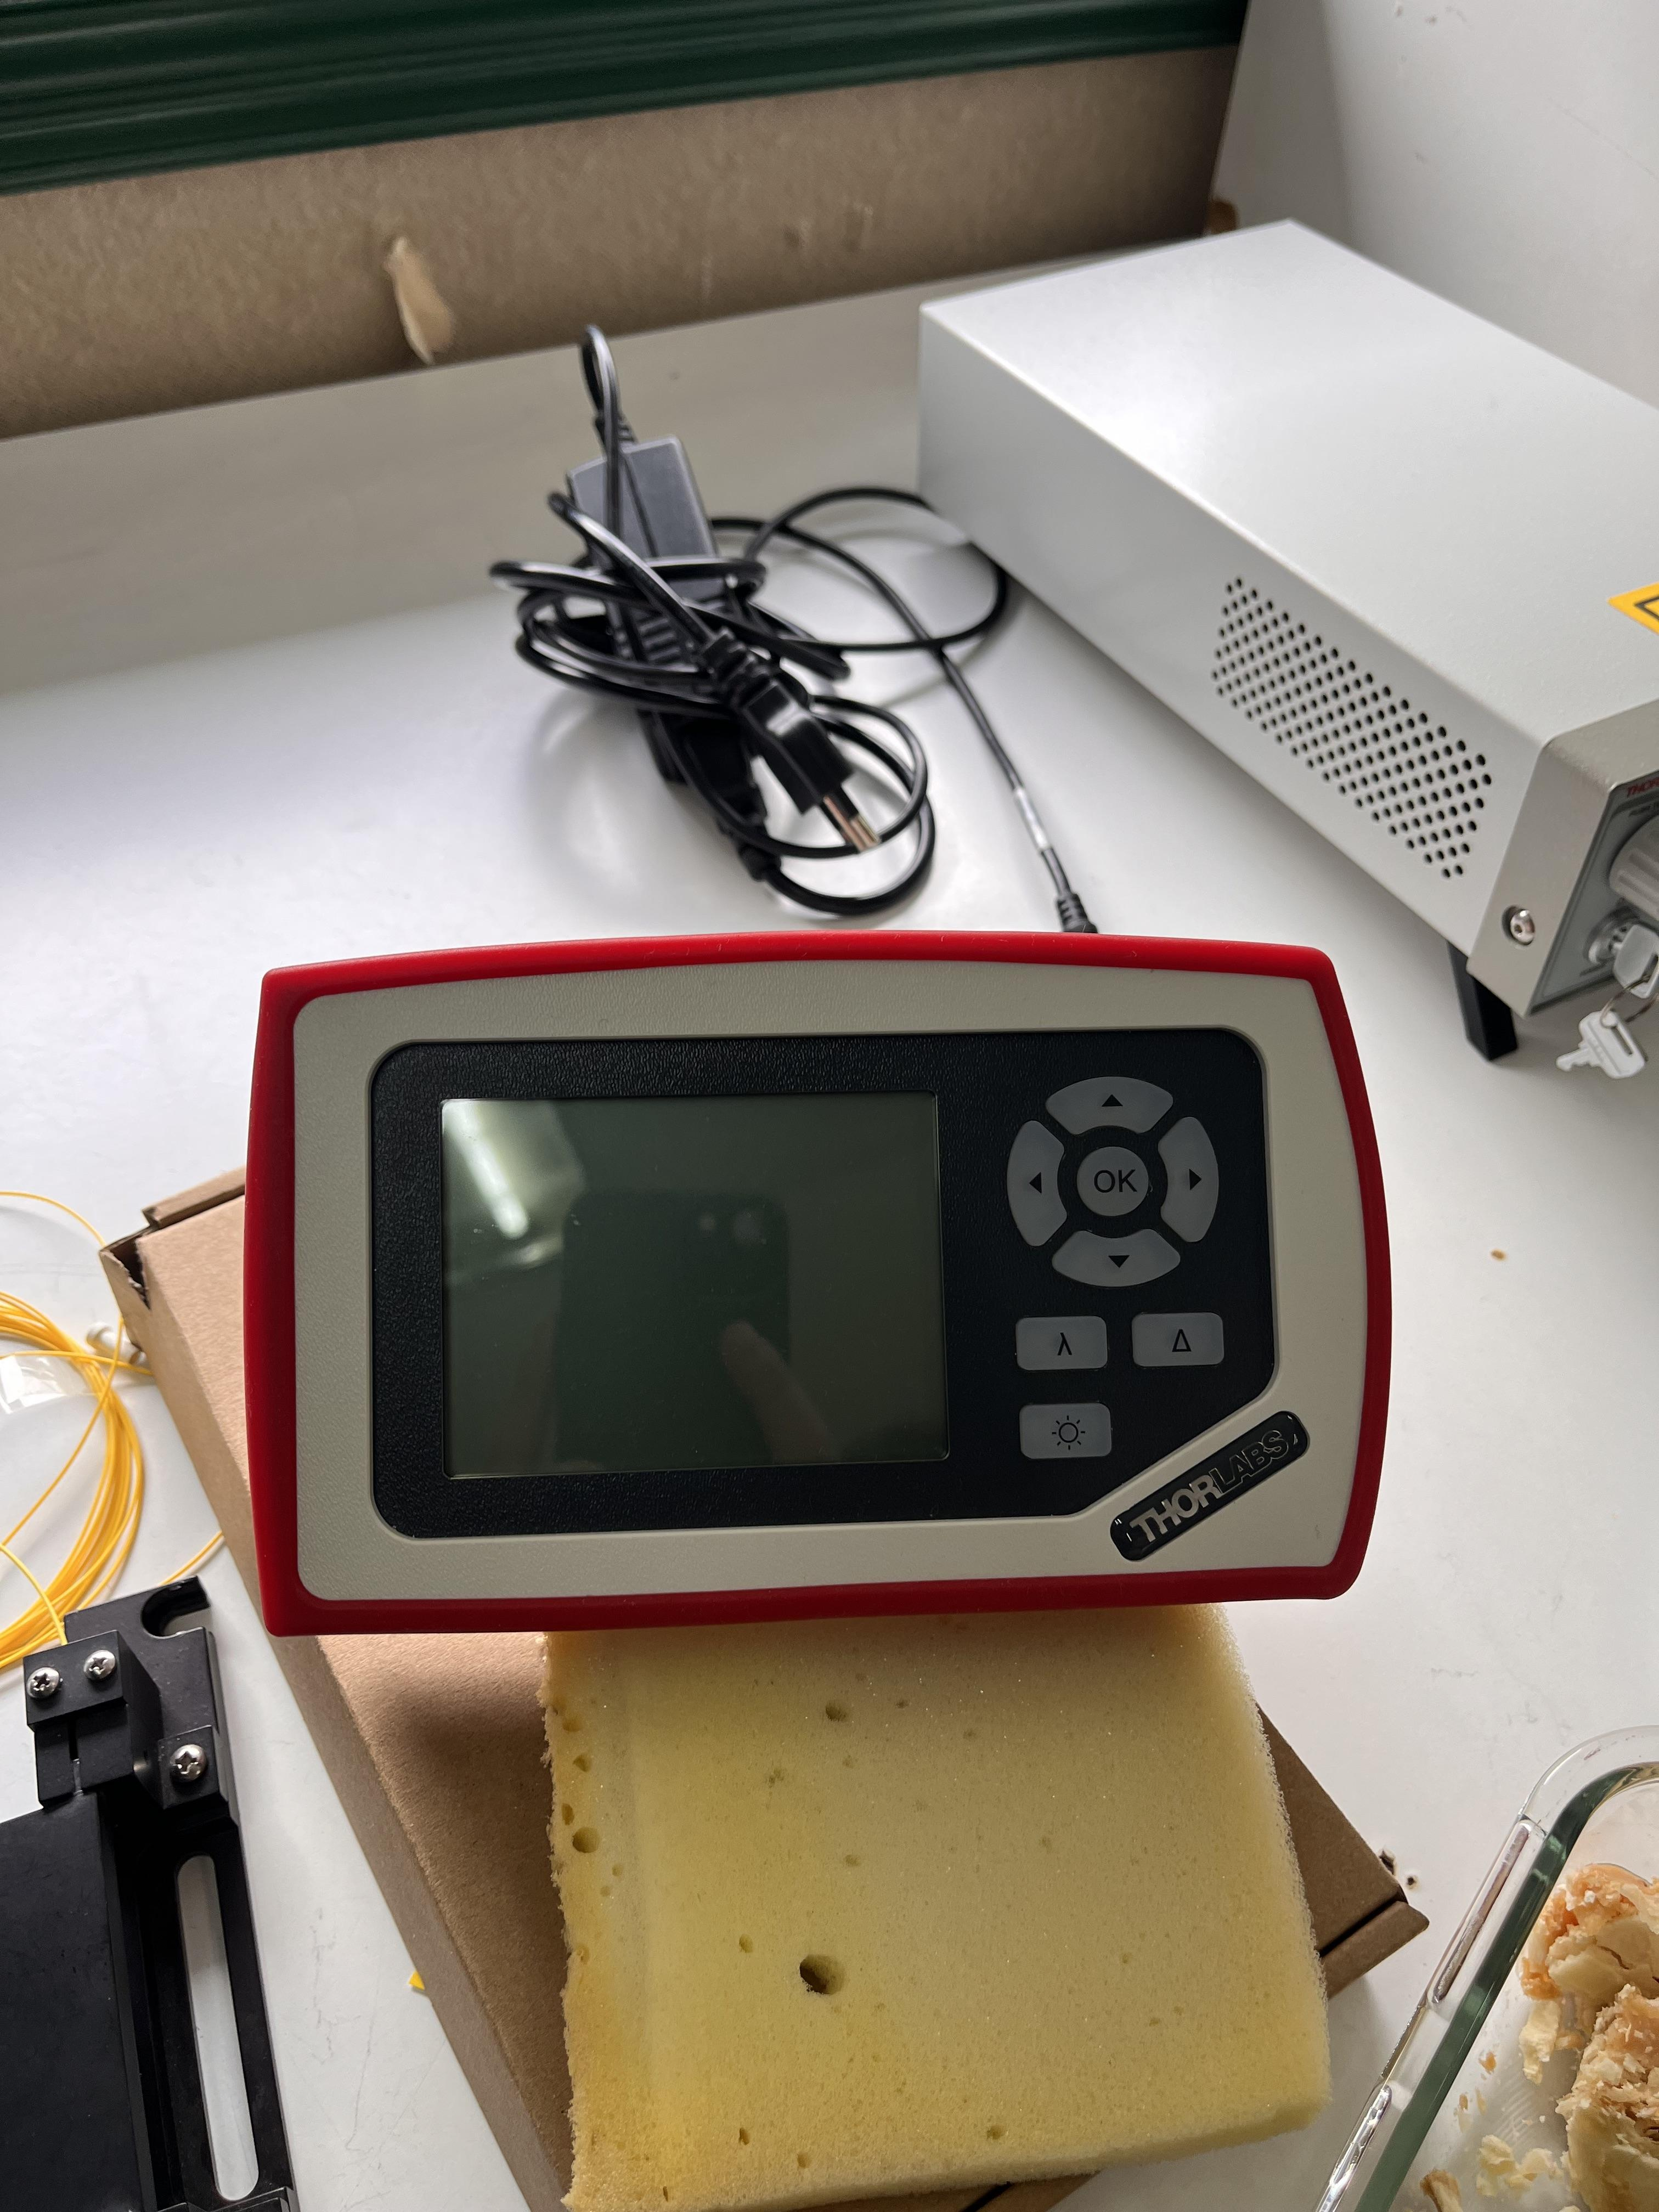powermeter: (234, 927, 1406, 1661)
